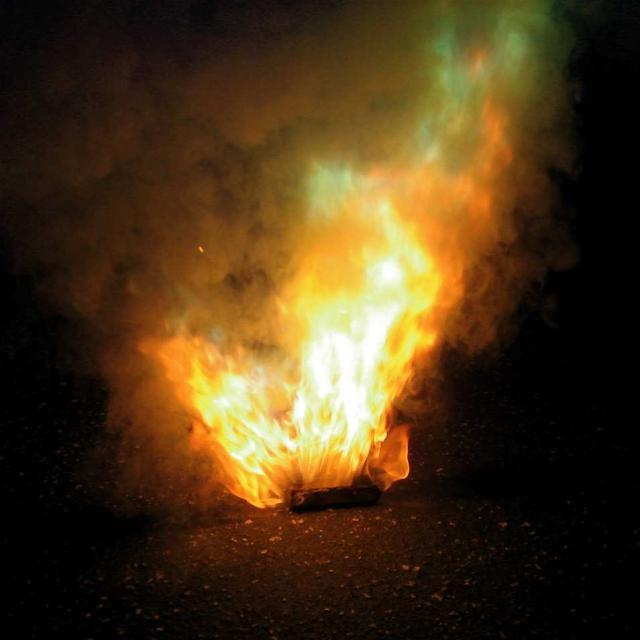Fire: (306, 288, 392, 464), (204, 373, 288, 489)
Smoke: (30, 19, 264, 283)
